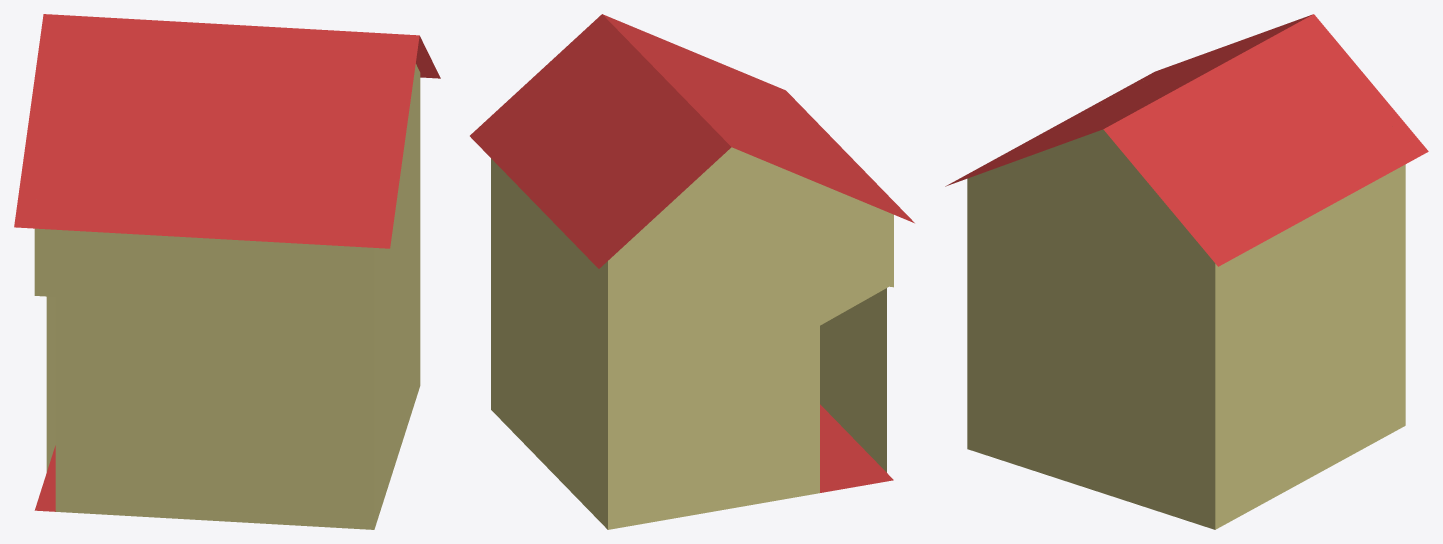
3 renders of one model, left to right at view 1: azimuth 30°, elevation 25°; view 2: azimuth 150°, elevation 25°; view 3: azimuth 270°, elevation 25°, orthographic. The views are drawn at different scales.
Bounding box in the file's own units: 14.56 × 14.56 × 12.37.
